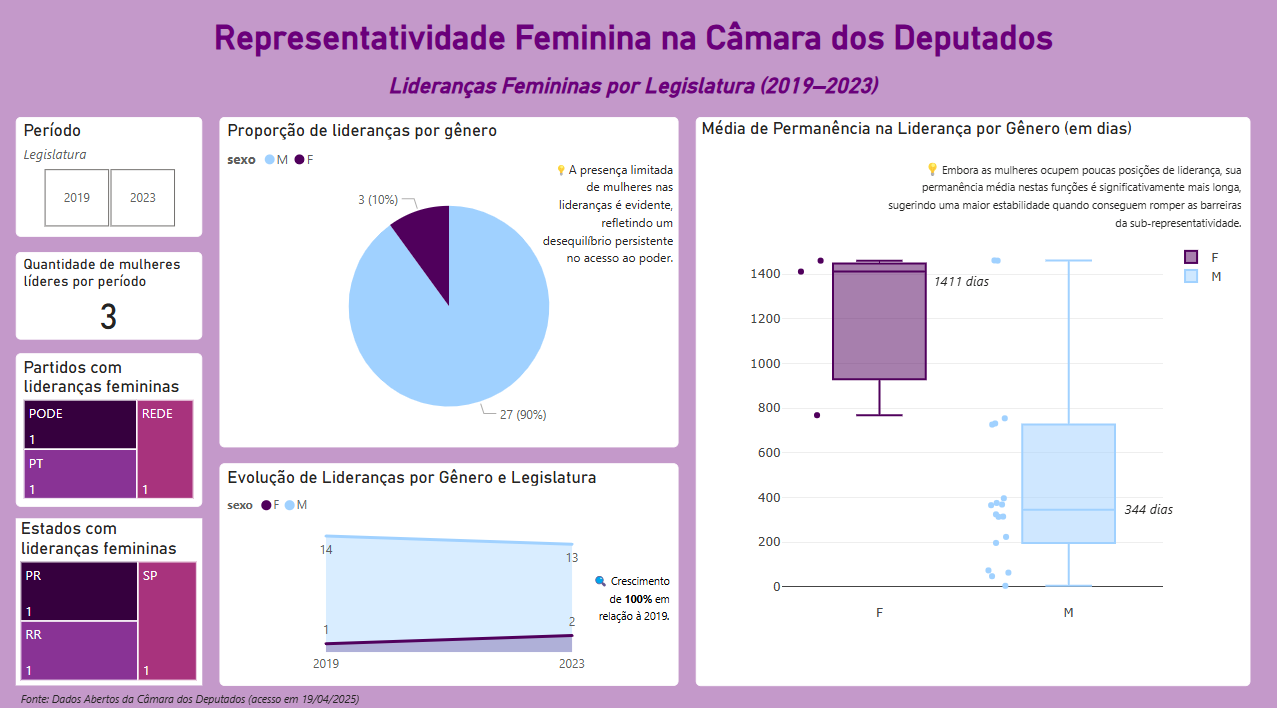

The page's visual inventory and layout, read from the dashboard file:
{"tool":"powerbi","page":{"name":"4. Lideranças","canvas":[1280,720],"ordinal":3},"visuals":[{"type":"card","title":"Análise da Igualdade de Gênero na Câmara dos Deputados","fields":{"Values":["Min(TituloPagina.Titulo)"]},"box":[19.3,11.2,1227.2,63],"z":0},{"type":"slicer","title":"Período","fields":{"Values":["lideres.anoLegislatura"]},"box":[19.3,124.7,185.2,119.2],"z":1000},{"type":"card","title":"Quantidade de mulheres líderes por período","fields":{"Values":["CountNonNull(lideres.id)"]},"box":[18.3,259,185.9,87.4],"z":2000},{"type":"card","title":"Análise da Igualdade de Gênero na Câmara dos Deputados","fields":{"Values":["Min(TituloPagina.Subtitulo4)"]},"box":[18.3,74.2,1227.2,36.6],"z":3000},{"type":"pieChart","title":"Proporção de lideranças por gênero","fields":{"Category":["lideres.sexo"],"Y":["CountNonNull(lideres.id)"]},"box":[221.3,124.2,457,329.2],"z":4000},{"type":"treemap","title":"Partidos com lideranças femininas","fields":{"Group":["lideres.parlamentar.siglaPartido"],"Values":["CountNonNull(lideres.id)"]},"box":[18.7,359.5,185.3,153],"z":5000},{"type":"areaChart","title":"Evolução de Lideranças por Gênero e Legislatura","fields":{"Category":["lideres.dataInicio.Variation.Hierarquia de datas.Ano"],"Y":["CountNonNull(lideres.id)"],"Series":["lideres.sexo"]},"box":[221.3,468.8,457,221.3],"z":6000},{"type":"boxPloty6C987A9E682A4A859272BFEC966AF372","title":"Média de Permanência na Liderança por Gênero (em dias)","fields":{"category":["lideres.sexo"],"measure":["lideres.diasLideranca"]},"box":[695.4,124.4,552.3,566],"z":7000},{"type":"treemap","title":"Estados com lideranças femininas","fields":{"Group":["lideres.parlamentar.siglaUf"],"Values":["CountNonNull(lideres.sexo)"]},"box":[18.7,523.7,185.3,166.7],"z":8000},{"type":"textbox","box":[578.5,571.3,96.1,70.7],"z":9000},{"type":"textbox","box":[1117.2,499.6,121.5,33.6],"z":10000},{"type":"textbox","box":[926.8,273.9,121.5,33.6],"z":11000},{"type":"textbox","box":[19,688.3,1228.7,31.7],"z":12000},{"type":"textbox","box":[880.5,162.3,362.7,80.7],"z":13000},{"type":"textbox","box":[533.7,161.7,144.3,145.5],"z":14000}]}

Visuals, with their boxes in screenshot pixels (x1, y1, x2, y2), scaled from the page's 1280x720 canvas onto the 1277x708 screenshot:
"Análise da Igualdade de Gênero na Câmara dos Deputados" card: bbox=[19, 11, 1244, 73]
"Período" slicer: bbox=[19, 123, 204, 240]
"Quantidade de mulheres líderes por período" card: bbox=[18, 255, 204, 341]
"Análise da Igualdade de Gênero na Câmara dos Deputados" card: bbox=[18, 73, 1243, 109]
"Proporção de lideranças por gênero" pieChart: bbox=[221, 122, 677, 446]
"Partidos com lideranças femininas" treemap: bbox=[19, 354, 204, 504]
"Evolução de Lideranças por Gênero e Legislatura" areaChart: bbox=[221, 461, 677, 679]
"Média de Permanência na Liderança por Gênero (em dias)" boxPloty6C987A9E682A4A859272BFEC966AF372: bbox=[694, 122, 1245, 679]
"Estados com lideranças femininas" treemap: bbox=[19, 515, 204, 679]
textbox: bbox=[577, 562, 673, 631]
textbox: bbox=[1115, 491, 1236, 524]
textbox: bbox=[925, 269, 1046, 302]
textbox: bbox=[19, 677, 1245, 707]
textbox: bbox=[878, 160, 1240, 239]
textbox: bbox=[532, 159, 676, 302]
